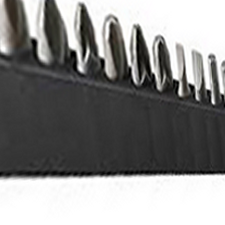Screwdriver: (38, 2, 225, 107)
